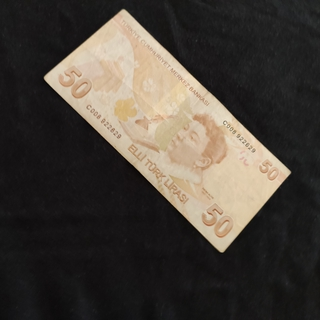50TLBack: (43, 7, 291, 253)
